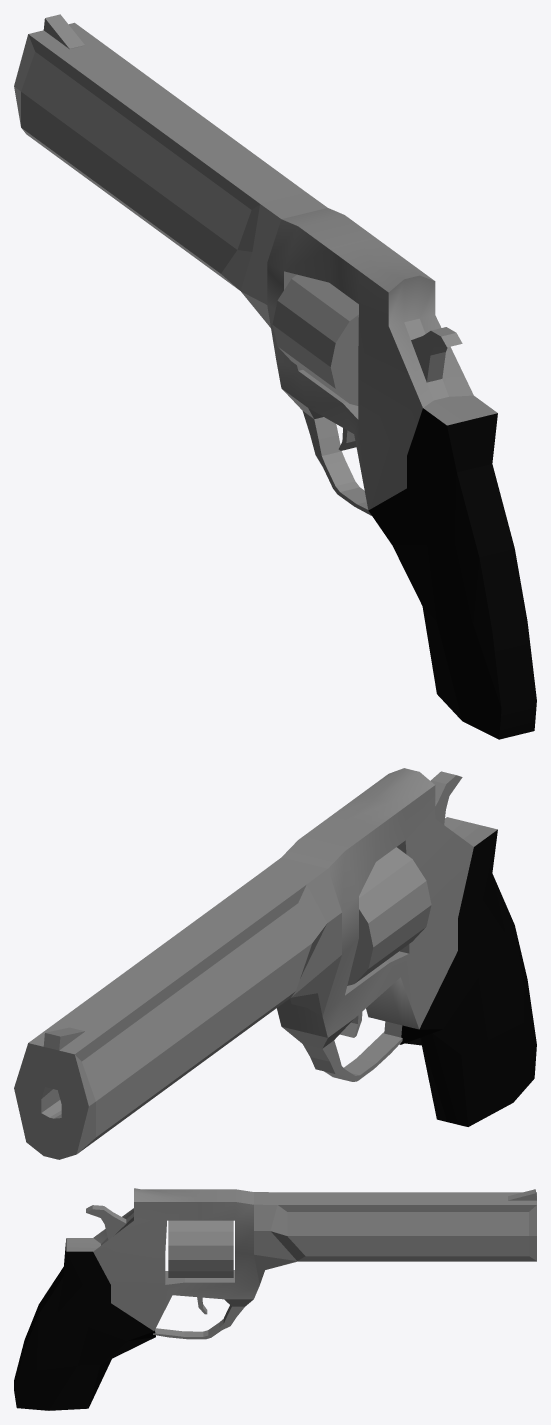
The model's file is revolver.fbx.
The picture shows the model from 3 angles, top to bottom: view 1: azimuth 30°, elevation 25°; view 2: azimuth 150°, elevation 25°; view 3: azimuth 270°, elevation 25°; orthographic projection. The views are drawn at different scales.
Visible parts, largest first — view 1: pCube2; view 2: pCube2; view 3: pCube2.
Part boxes in pixels (<box>): pCube2: <box>14,14,536,739</box>; pCube2: <box>14,768,536,1159</box>; pCube2: <box>14,1188,536,1410</box>.
Size of the model in its own units: 2 by 7.26 by 16.07.
2 materials, 2 textured.
